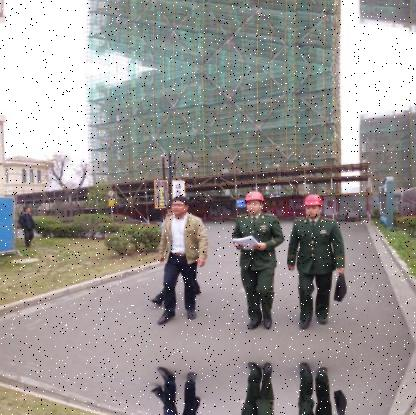helmet: (245, 189, 269, 213), (305, 192, 325, 217)
